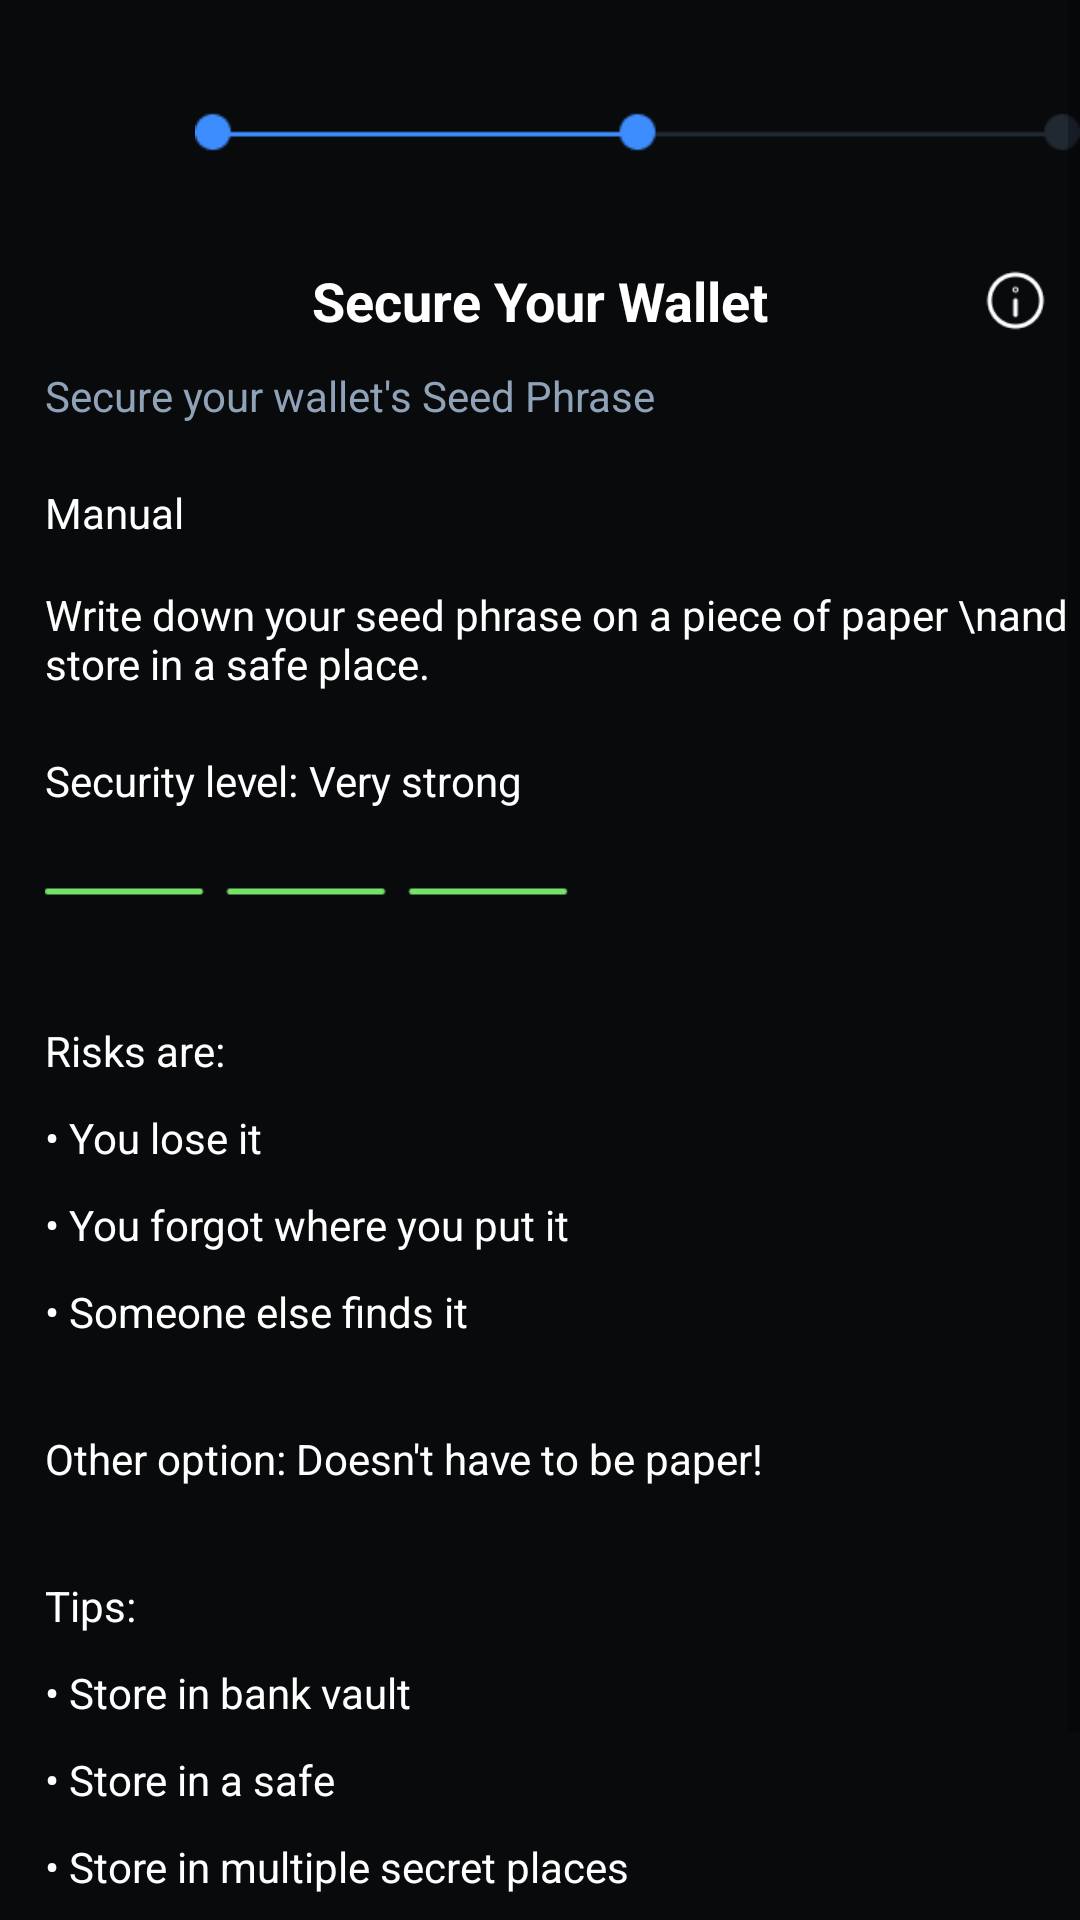

Screen size 1080px×1920px. Icon name, then its box in pixels as (x1, y1, x2, y2):
moreinfo: (986, 271, 1045, 330)
